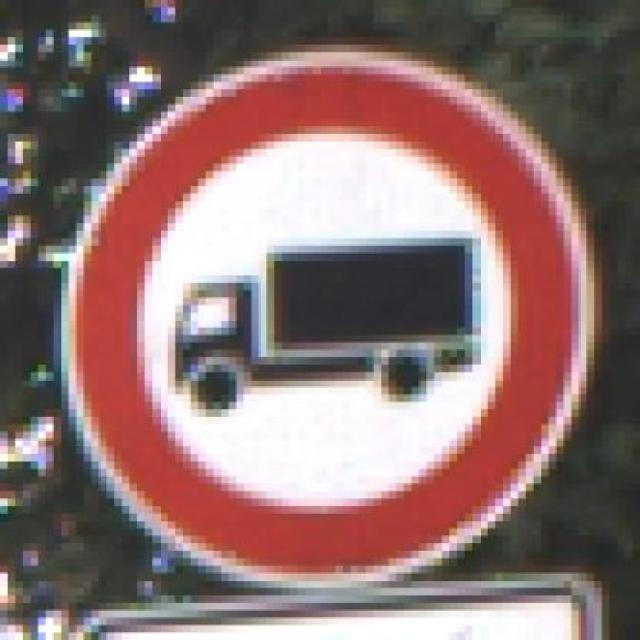Truck traffic is prohibited: (45, 22, 602, 596)
